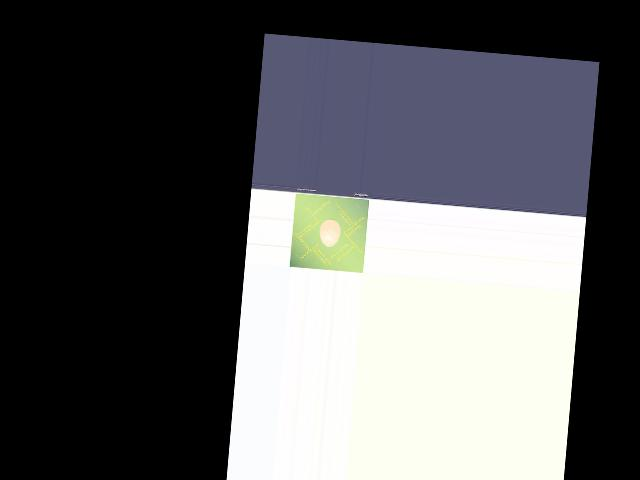egg: (318, 219, 341, 247)
